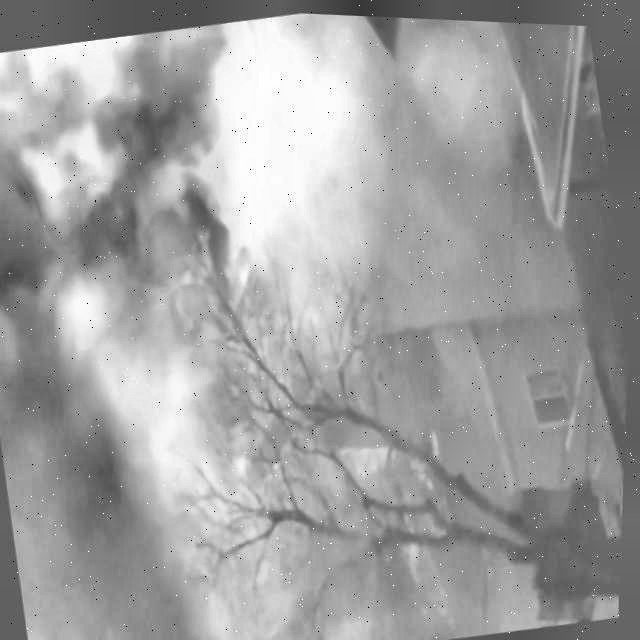Fire: (0, 9, 291, 357)
Smoke: (225, 8, 539, 331), (0, 333, 262, 640), (0, 51, 104, 640)
